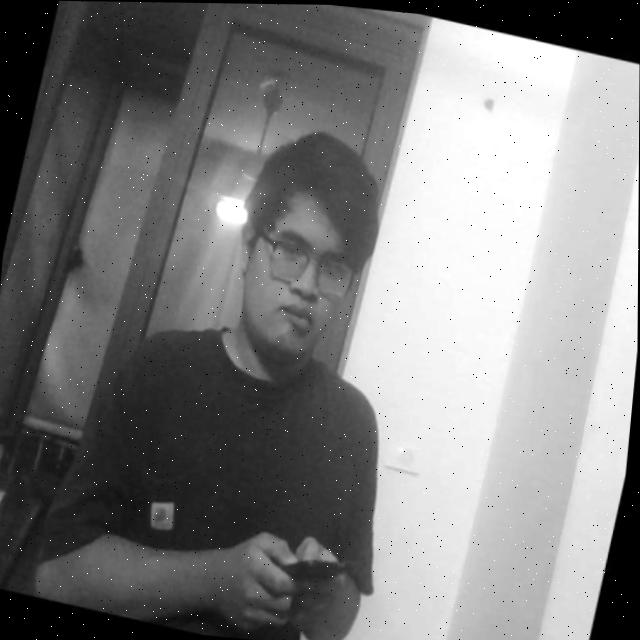phone: (238, 527, 359, 628)
